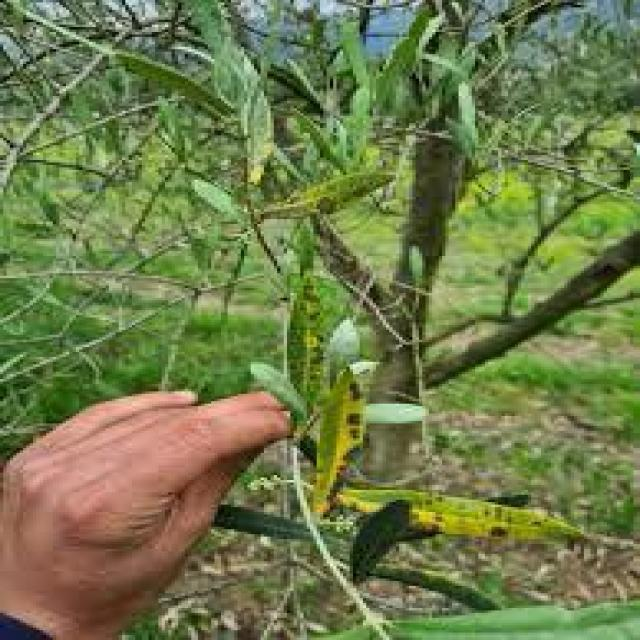OlivePeacockSpot: (340, 489, 580, 536), (258, 172, 392, 219), (316, 391, 359, 512), (287, 268, 320, 411)
